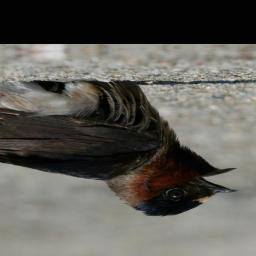Swallow: (0, 72, 243, 223)
